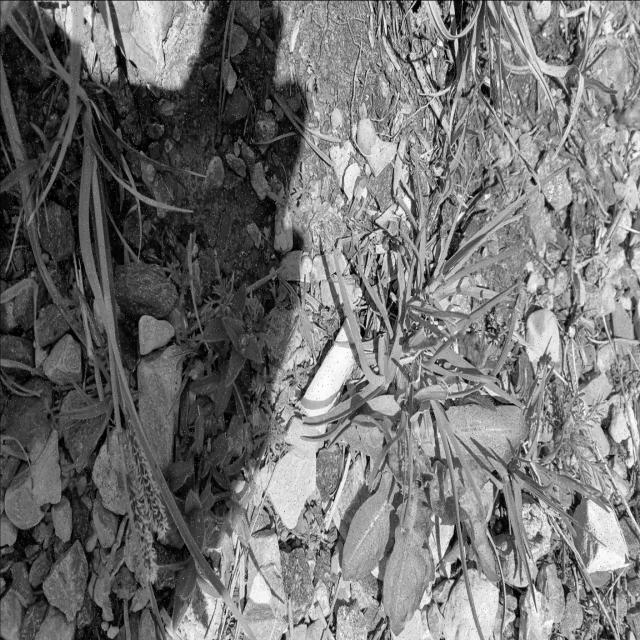other waste: (300, 312, 364, 434)
